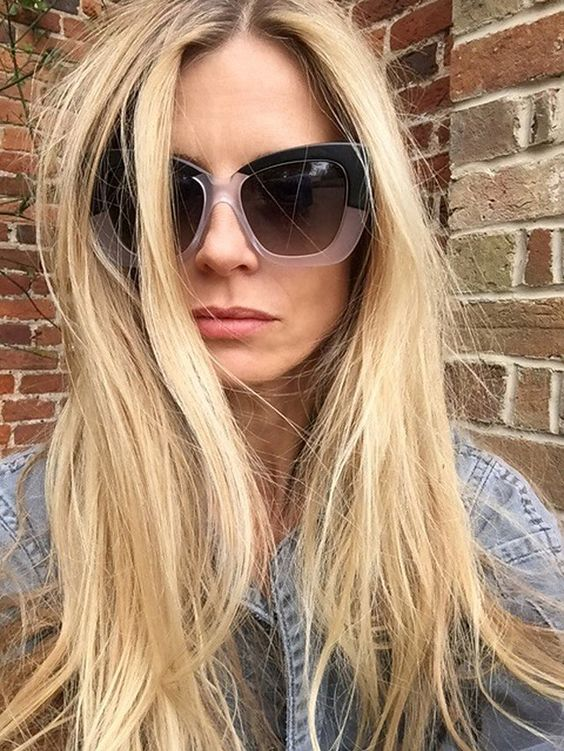sunglasses: (98, 137, 358, 257)
